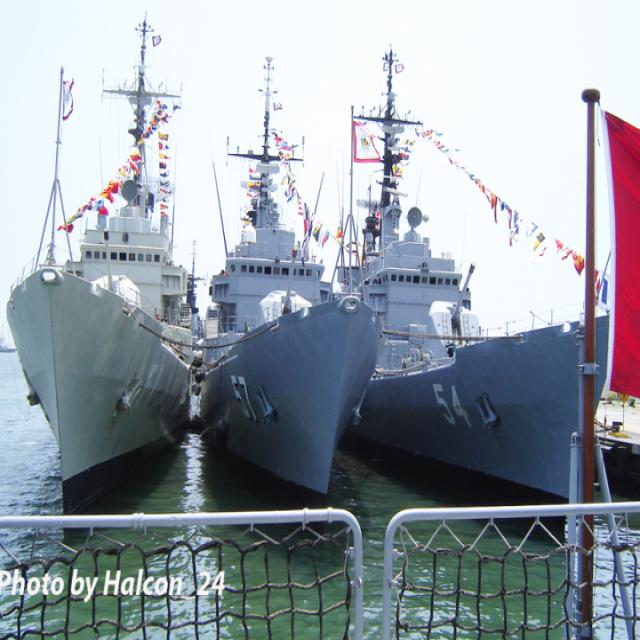Fragata: (338, 25, 629, 515), (174, 1, 383, 505), (1, 1, 193, 509)
